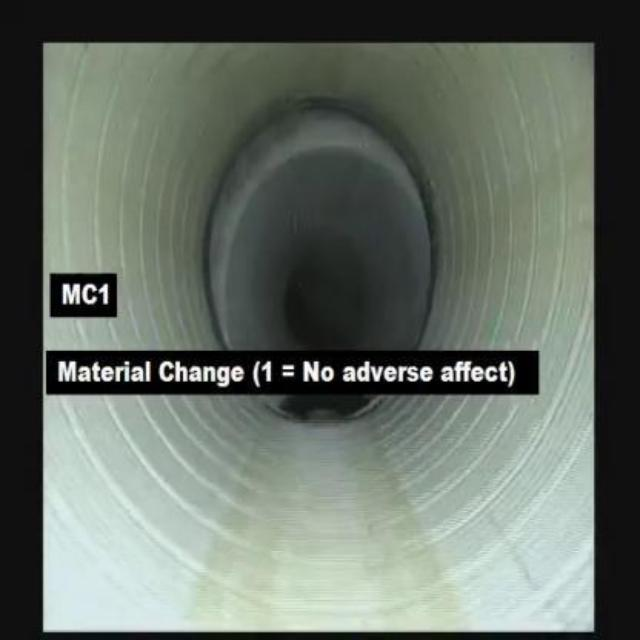Joint offset: (266, 91, 443, 225), (195, 95, 265, 349)
